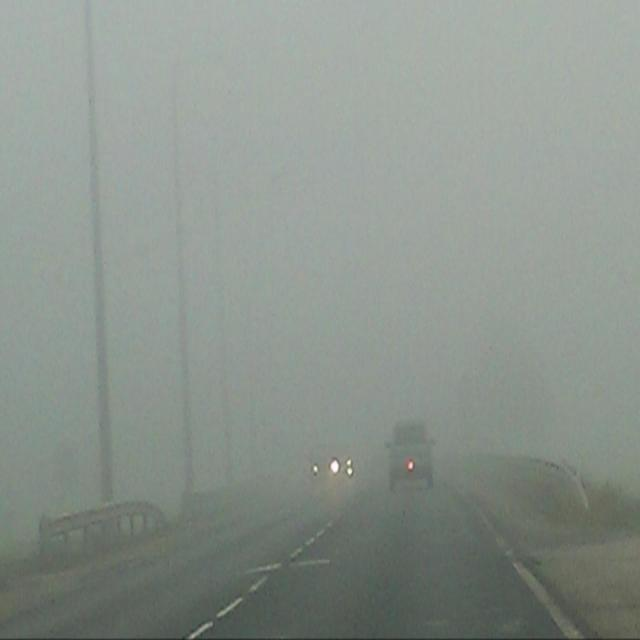Car: (387, 418, 437, 492)
